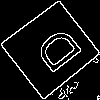D: (25, 24, 84, 82)
